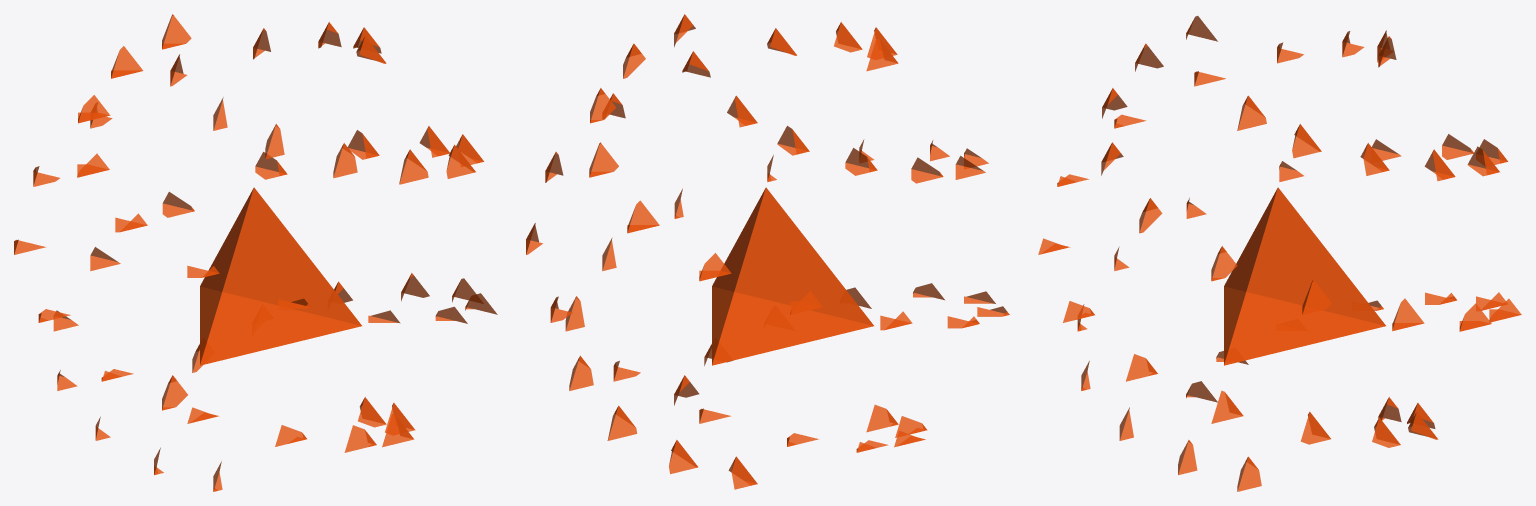
The model's file is spell2.obj.
The picture shows the model from 3 angles, left to right: view 1: azimuth 30°, elevation 25°; view 2: azimuth 150°, elevation 25°; view 3: azimuth 270°, elevation 25°; orthographic projection.
Parts seen in each view (by area): view 1: main, a.003, c.000, c.001, a.004, a.002, b.013, a.008, c.015, a.007, a.009; view 2: main, c.013, b.003, b.004, c.014, c.012, a.000, c.002, b.002, c.001, b.005; view 3: main, b.000, a.006, a.007, b.001, b.015, c.010, a.005, c.011, b.004, a.008.
Part boxes in pixels (bbox=[...]): main: bbox=[200, 187, 361, 365]; a.003: bbox=[399, 149, 428, 184]; c.000: bbox=[162, 14, 191, 49]; c.001: bbox=[111, 46, 143, 78]; a.004: bbox=[446, 144, 475, 178]; a.002: bbox=[333, 143, 357, 178]; b.013: bbox=[382, 414, 414, 447]; a.008: bbox=[255, 152, 287, 179]; c.015: bbox=[162, 375, 187, 410]; a.007: bbox=[348, 130, 379, 159]; a.009: bbox=[162, 192, 194, 217]; main: bbox=[712, 187, 873, 365]; c.013: bbox=[607, 405, 637, 440]; b.003: bbox=[589, 142, 618, 177]; b.004: bbox=[627, 200, 659, 233]; c.014: bbox=[669, 440, 697, 473]; c.012: bbox=[569, 355, 593, 390]; a.000: bbox=[866, 38, 898, 71]; c.002: bbox=[845, 148, 877, 175]; b.002: bbox=[590, 88, 616, 123]; c.001: bbox=[777, 125, 809, 155]; b.005: bbox=[699, 253, 731, 281]; main: bbox=[1224, 187, 1385, 365]; b.000: bbox=[1237, 95, 1266, 130]; a.006: bbox=[1302, 279, 1331, 314]; a.007: bbox=[1392, 298, 1424, 331]; b.001: bbox=[1292, 124, 1321, 158]; b.015: bbox=[1237, 456, 1261, 491]; c.010: bbox=[1211, 390, 1243, 423]; a.005: bbox=[1211, 246, 1237, 281]; c.011: bbox=[1300, 411, 1330, 444]; b.004: bbox=[1467, 146, 1499, 176]; a.008: bbox=[1459, 303, 1491, 331].
Size of the model in its own units: 1.06 by 0.9327 by 1.05.
